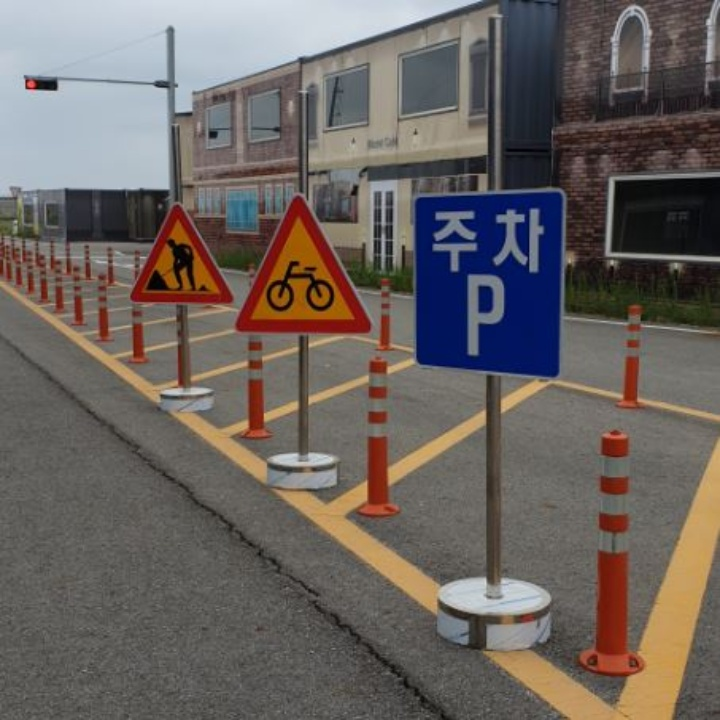bicycle: (259, 259, 348, 320)
const: (145, 234, 215, 300)
parking: (459, 265, 512, 363)
